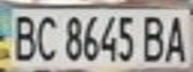4: (100, 11, 121, 62)
5: (115, 11, 142, 63)
6: (78, 11, 103, 62)
8: (60, 11, 84, 62)
A: (160, 11, 193, 63)
B: (6, 10, 39, 63), (139, 11, 172, 63)
C: (30, 11, 60, 63)
